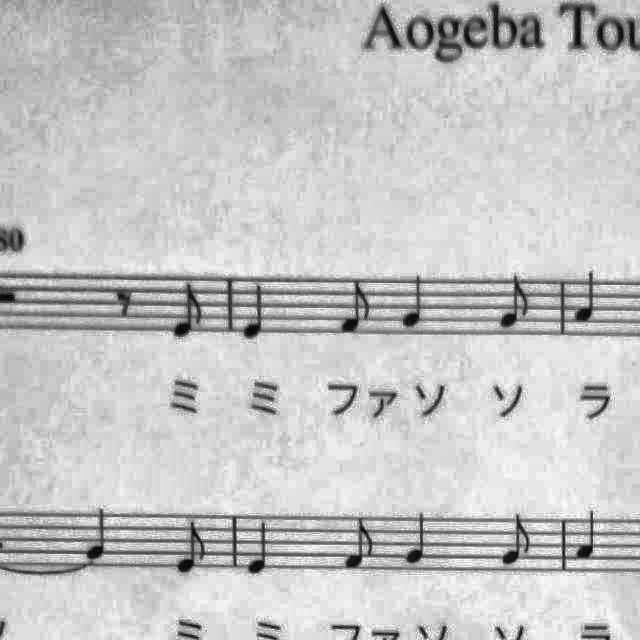Eighth-note: (165, 278, 211, 342), (334, 278, 378, 342), (168, 514, 212, 578), (492, 270, 536, 334), (496, 508, 538, 572), (340, 512, 380, 572)
Eighth-rest: (108, 280, 142, 324)
Quarter-note: (237, 279, 276, 345), (396, 272, 436, 336), (80, 503, 120, 565), (243, 514, 281, 578), (401, 507, 439, 569), (570, 268, 606, 328), (572, 504, 606, 564)
